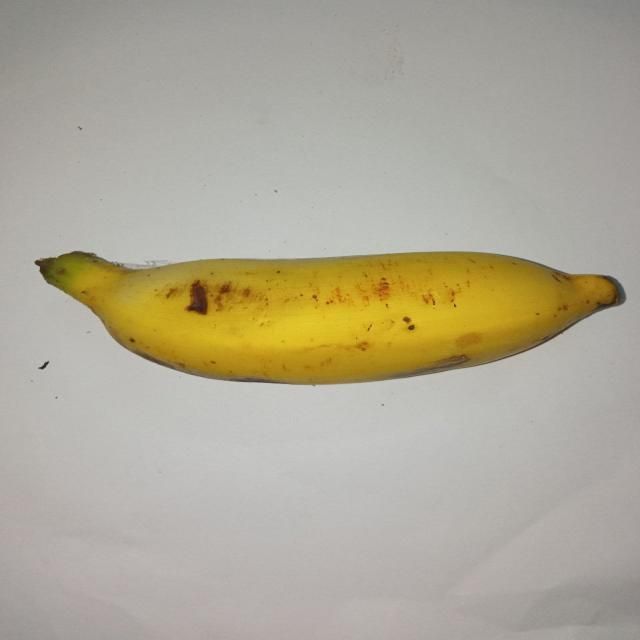fresh_banana: (33, 249, 624, 382)
